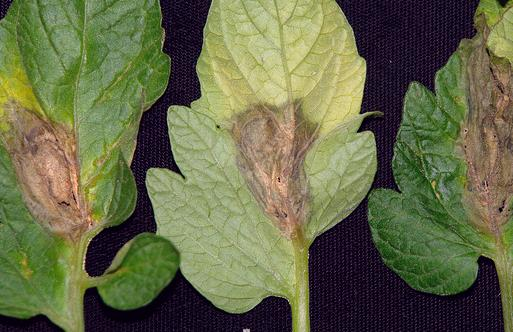Tomato mold leaf: (147, 0, 373, 332), (0, 0, 171, 332), (384, 0, 513, 332)
